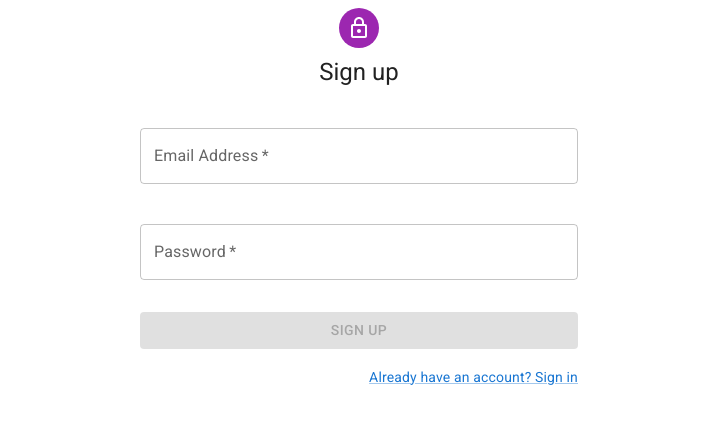
Test: Auth form › throws an error if password requirements are not met
The image size is (720, 424).
In the password field labelled "Password *": [359, 252] box [140,224,578,280], type "BadPassword123"
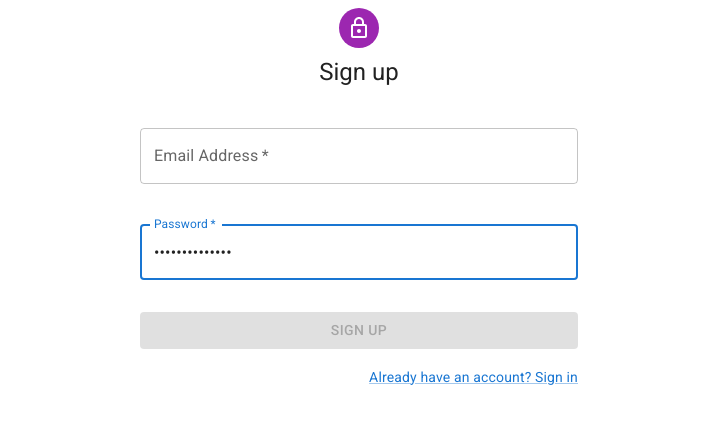
Click the field labelled "Email Address": [359, 156] box [140,128,578,184]
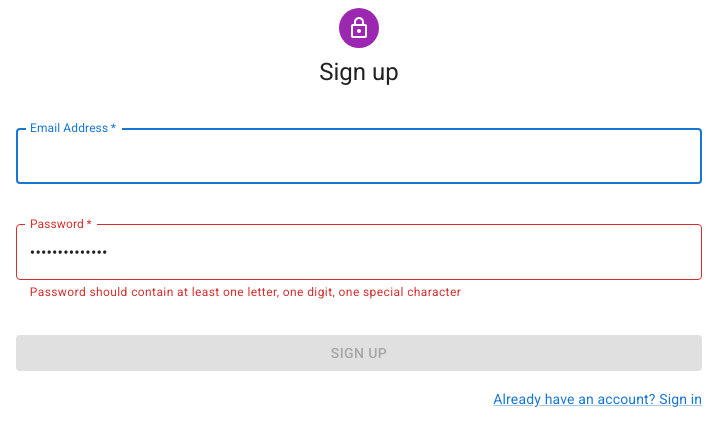
Expected: the text "Password should contain" is shown, [30,285,461,299]
